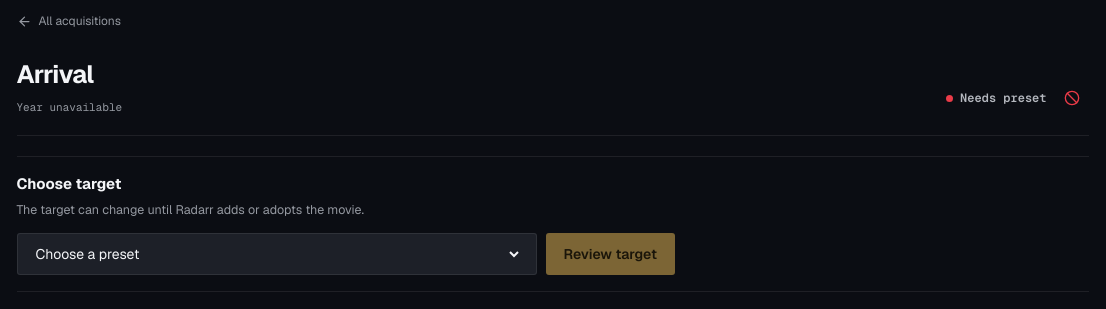
Test case: Radarr acquisition target safety › shows no Admin action after an existing file completes the acquisition
This screenshot has width=1106, height=309.
Select "Movies 1080p" in the dropdown named "Acquisition preset": (276, 254) [32, 244, 522, 264]
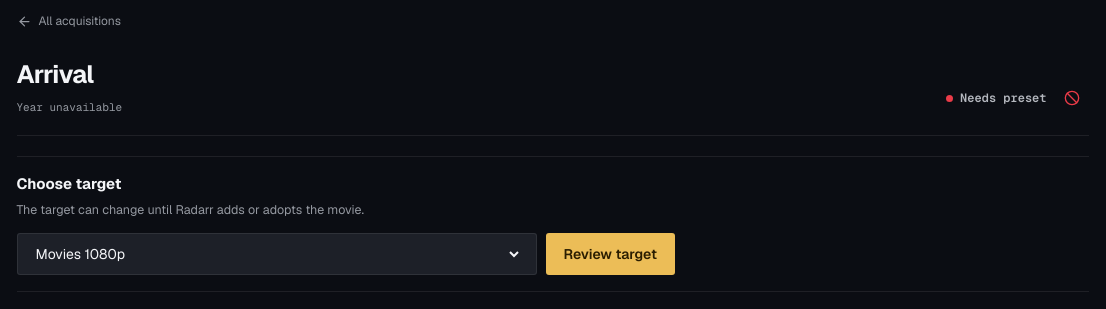
Click the button "Review target": (610, 254) [546, 233, 675, 275]
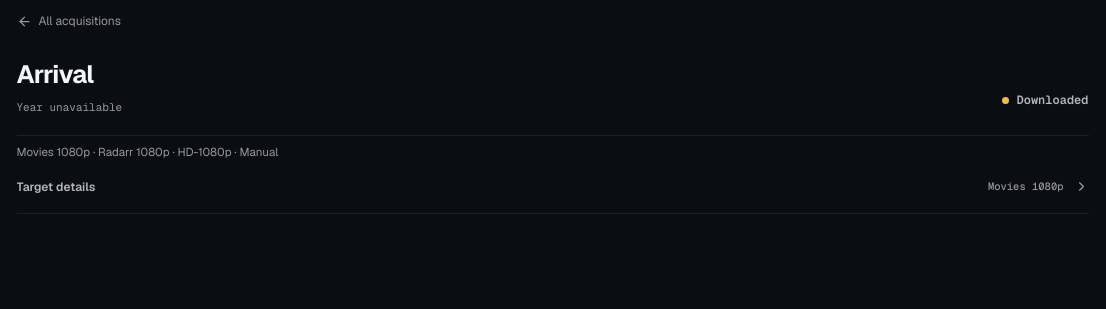
Expected: the text "Downloaded" is shown, [1002, 85, 1088, 115]
